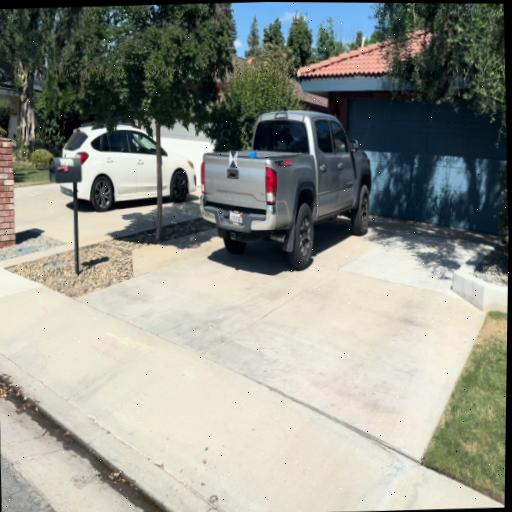target1: (228, 150, 237, 168)
